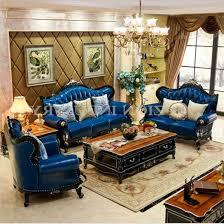chair: (5, 118, 76, 203), (142, 83, 224, 143)
light: (104, 0, 174, 49), (7, 96, 32, 130)
sofa: (43, 84, 133, 146)
table: (77, 130, 180, 181), (164, 159, 224, 224), (0, 122, 60, 160)
